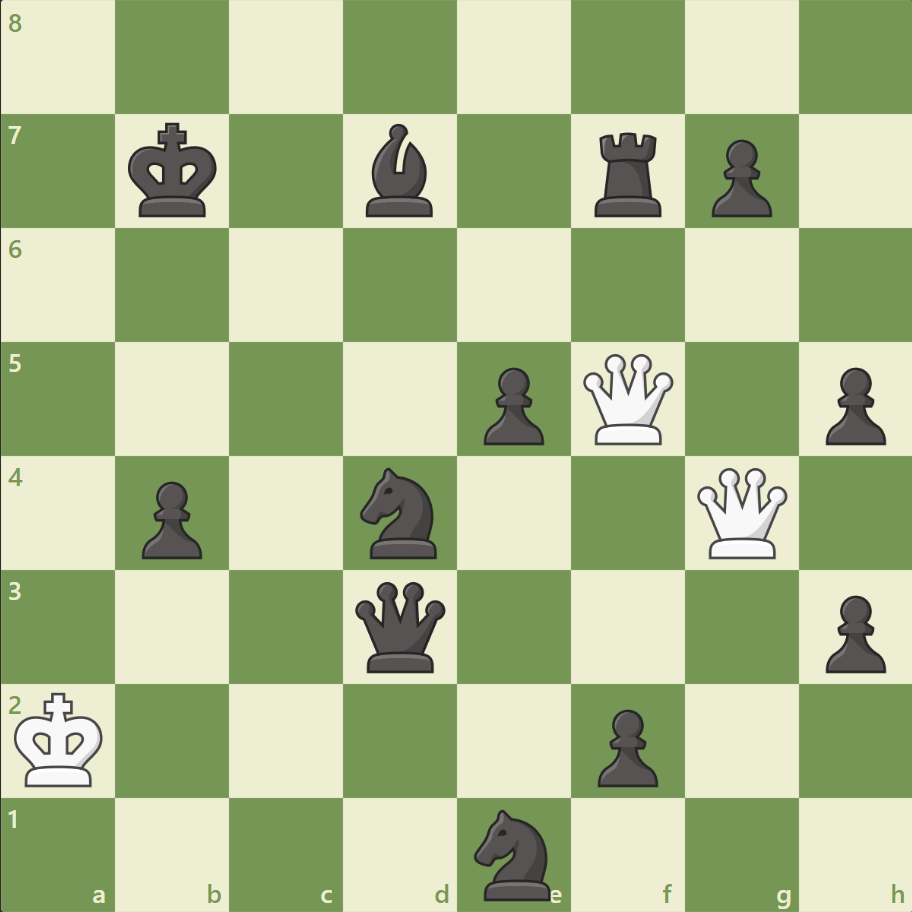K: (11, 685, 111, 793)
Q: (578, 349, 677, 449), (691, 463, 790, 562)
b: (358, 120, 442, 222)
k: (124, 117, 224, 225)
n: (351, 461, 449, 564), (465, 802, 562, 904)
p: (701, 132, 776, 223), (474, 359, 549, 450), (133, 473, 208, 564), (815, 359, 889, 450), (815, 586, 889, 677), (588, 700, 662, 791)
q: (351, 576, 450, 676)
r: (587, 125, 670, 222)
